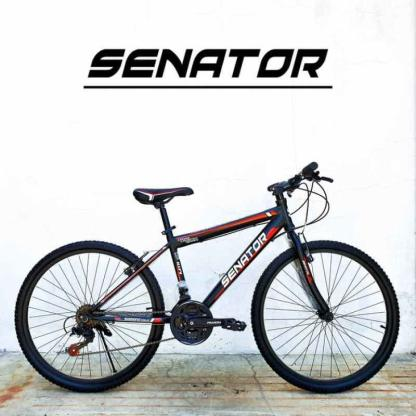Bike: (15, 152, 405, 400)
